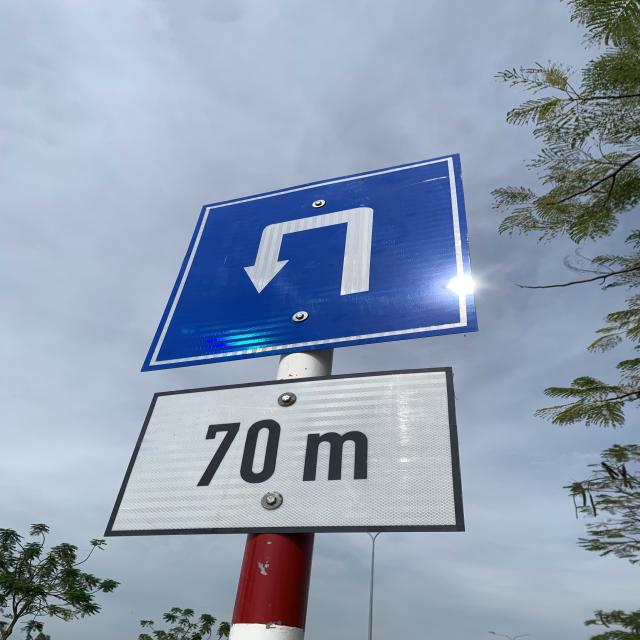Den_Giao_Thong: (142, 153, 478, 369)
